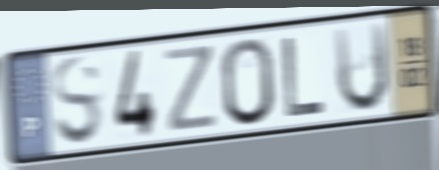4: (113, 47, 159, 142)
L: (280, 33, 329, 121)
O: (218, 35, 278, 130)
S: (49, 52, 106, 150)
U: (330, 18, 391, 117)
Z: (162, 42, 220, 136)
